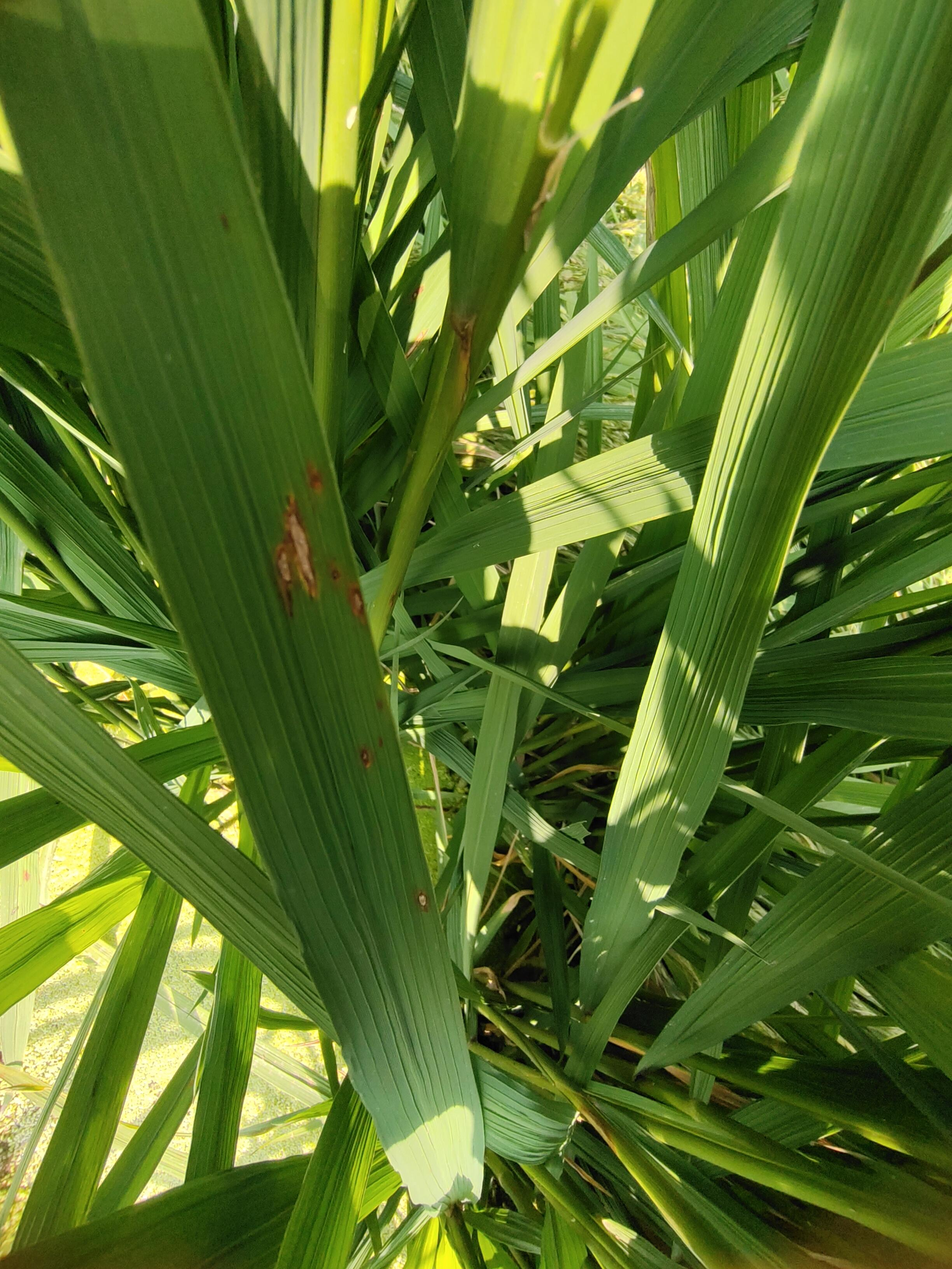LEAF: (0, 0, 487, 1208)
LEAF BLAST: (272, 494, 321, 620), (348, 583, 367, 624), (326, 559, 345, 588), (415, 890, 429, 913), (360, 745, 373, 768), (221, 210, 229, 229)
